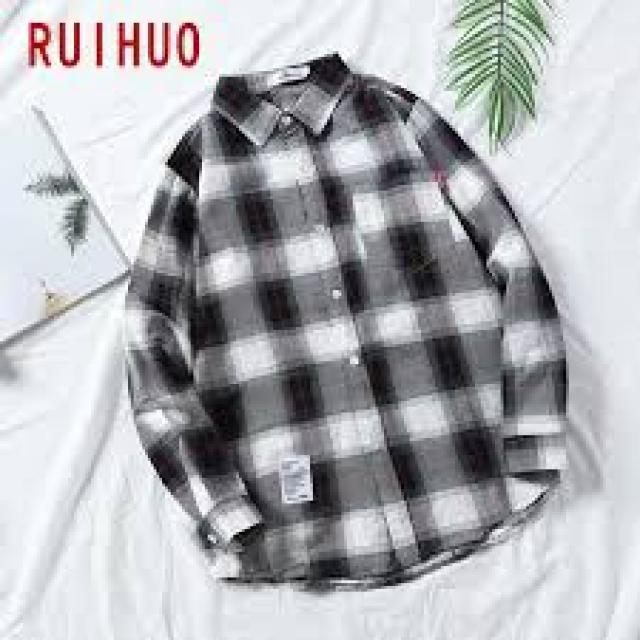plaid: (122, 68, 572, 598)
